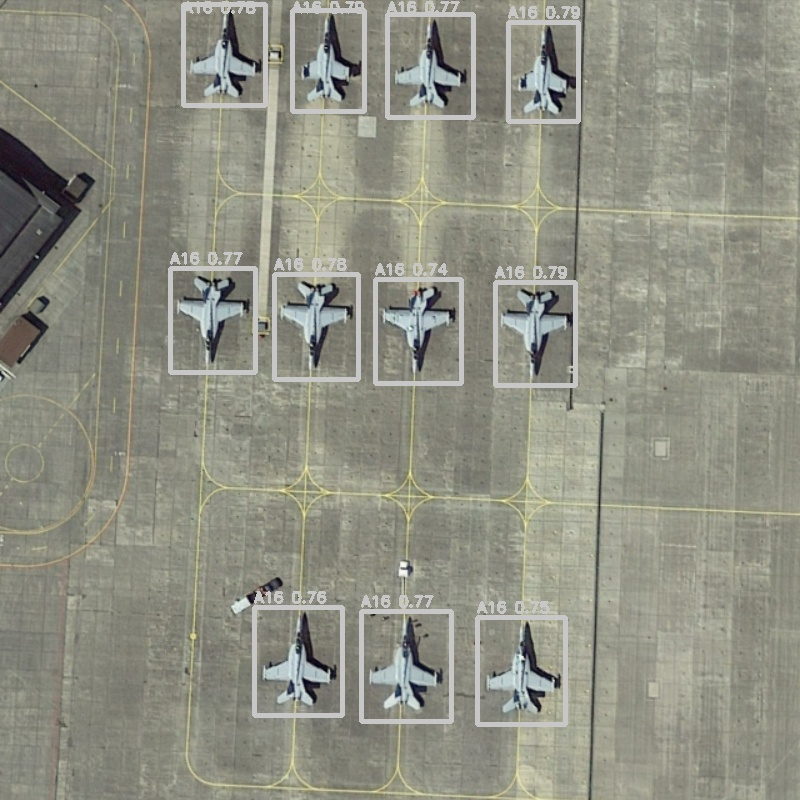A16: (361, 611, 451, 721), (254, 607, 342, 715), (477, 617, 565, 724), (375, 279, 461, 383), (387, 14, 473, 117), (170, 268, 255, 372), (274, 274, 358, 379), (183, 4, 265, 105), (495, 282, 575, 385), (292, 10, 364, 111), (508, 22, 578, 121)
